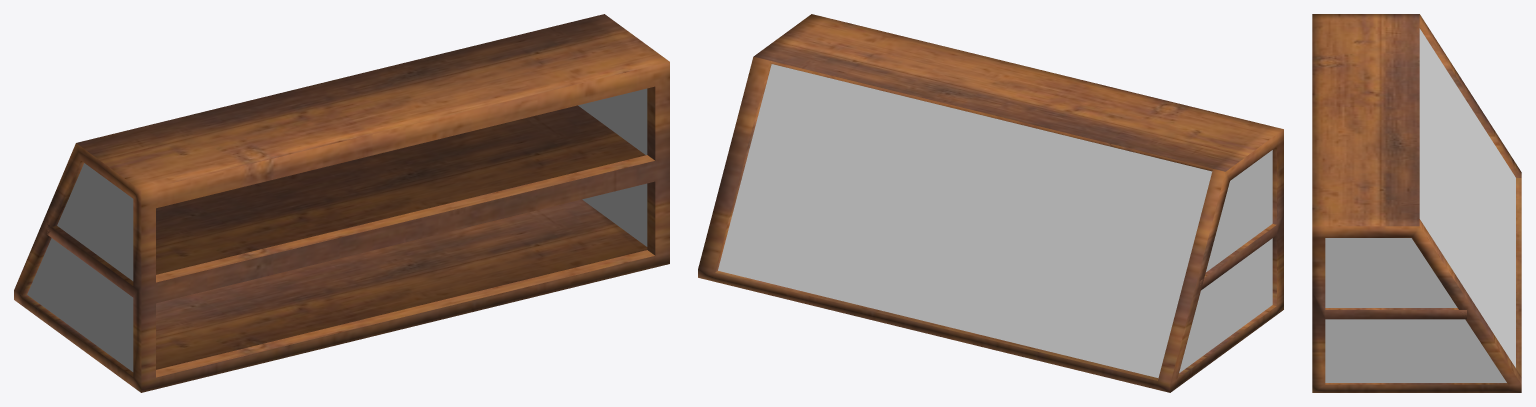
File: ShowcaseShelf.glb
3 views of the same model, side by side, from view 1: azimuth 30°, elevation 25°; view 2: azimuth 150°, elevation 25°; view 3: azimuth 270°, elevation 25° (orthographic). The views are drawn at different scales.
Parts seen in each view (by area): view 1: Showcase; view 2: Showcase; view 3: Showcase.
Part boxes in pixels (<box>): Showcase: <box>14,14,669,392</box>; Showcase: <box>698,14,1283,392</box>; Showcase: <box>1312,14,1521,392</box>.
Bounding box in the file's own units: 1.57 × 0.5746 × 0.6546.
Materials: 2 (1 with a texture image).
